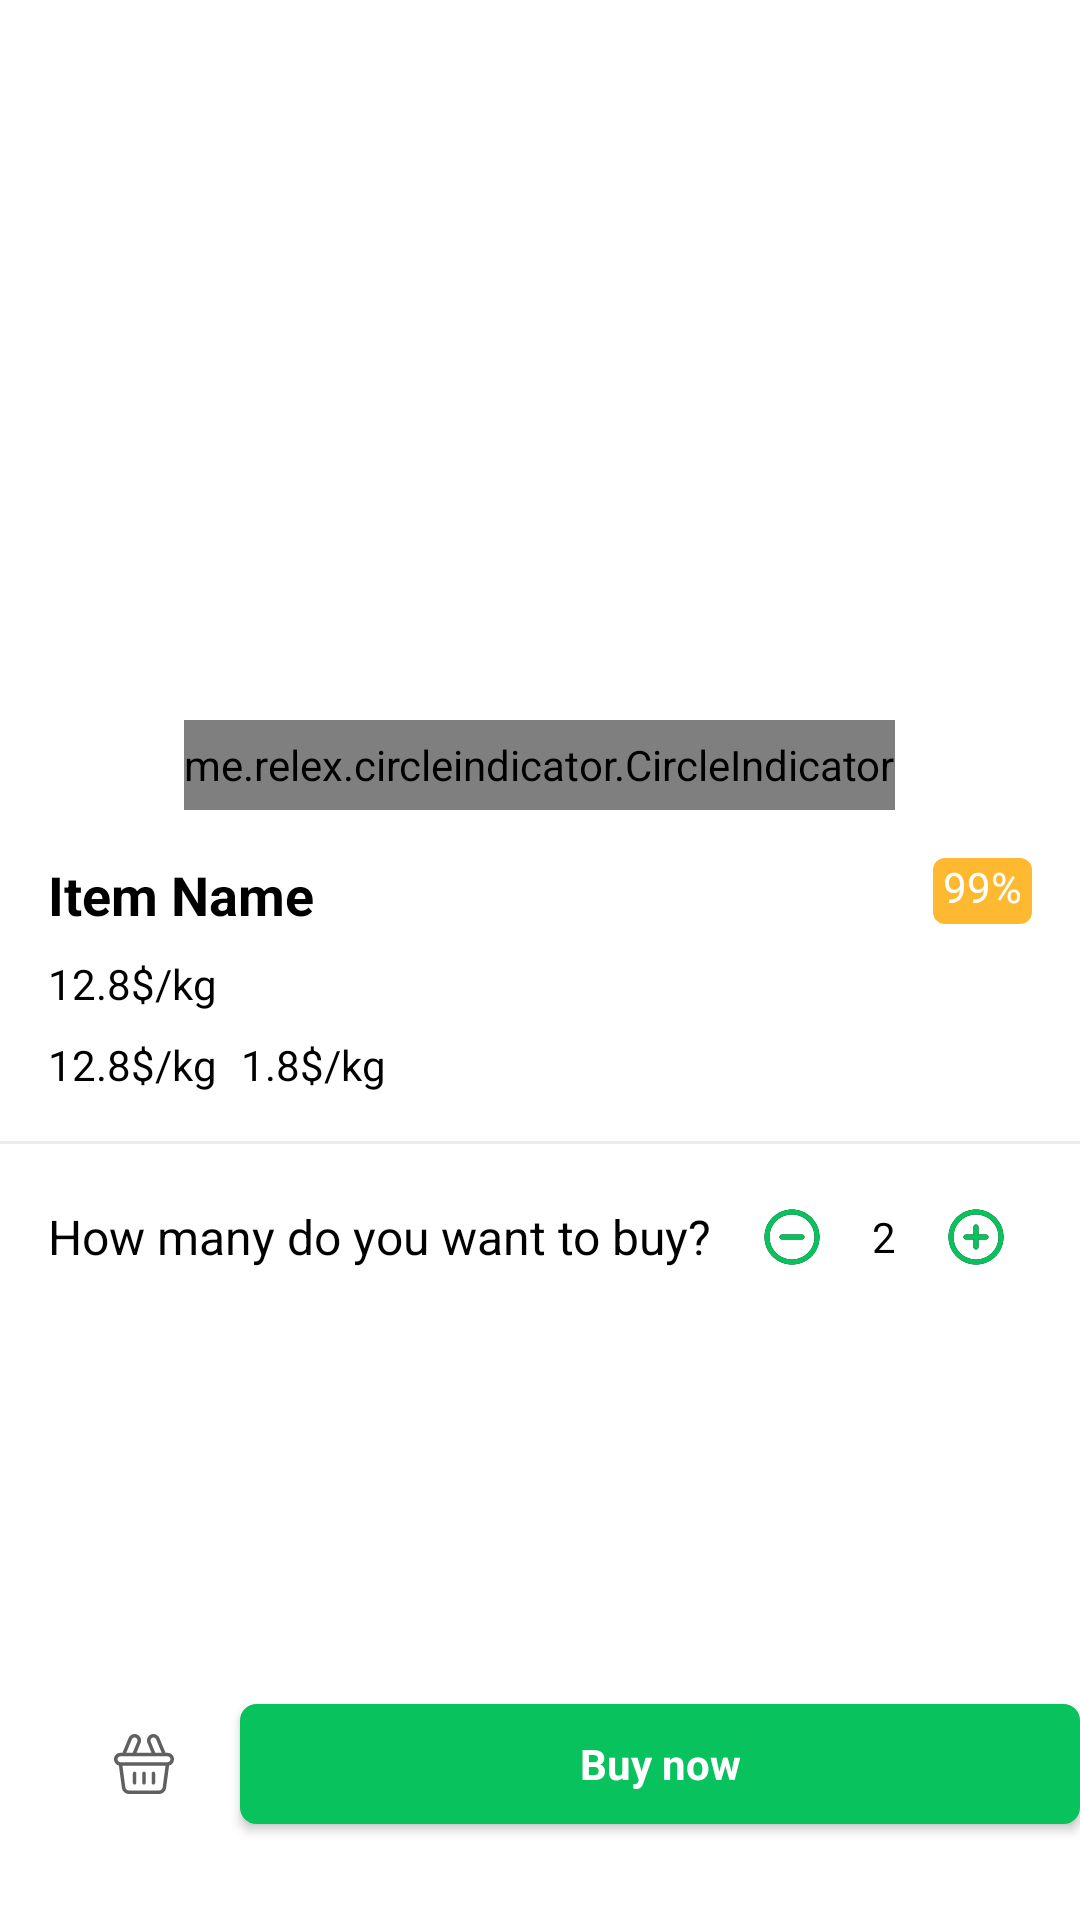

Screen size 1080px x 1920px. Icon name, then its box in pixels as (x1=x1, y1=y1, x2=x2, y2=y2):
cart: (x1=114, y1=1734, x2=174, y2=1794)
minus: (x1=764, y1=1209, x2=820, y2=1265)
plus: (x1=948, y1=1209, x2=1004, y2=1265)
